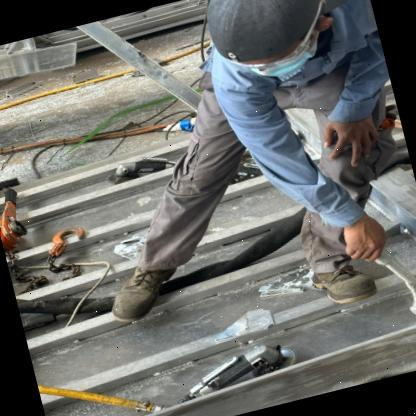bota: (91, 240, 194, 332), (302, 249, 392, 320)
